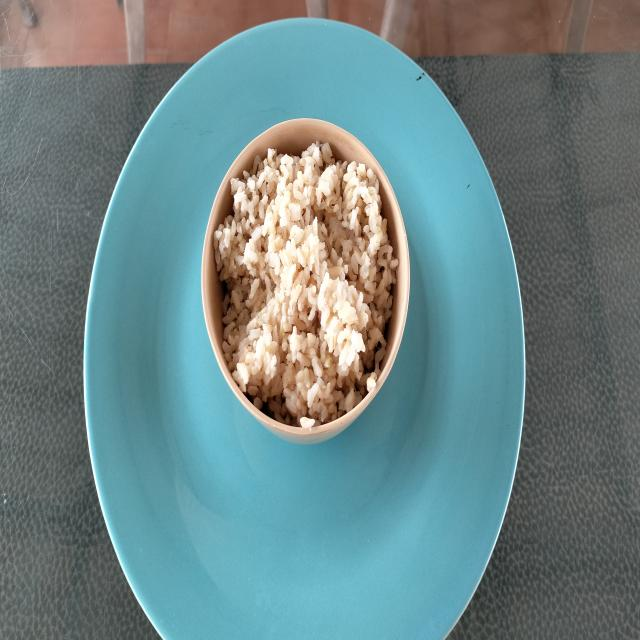brown-rice: (214, 142, 398, 428)
